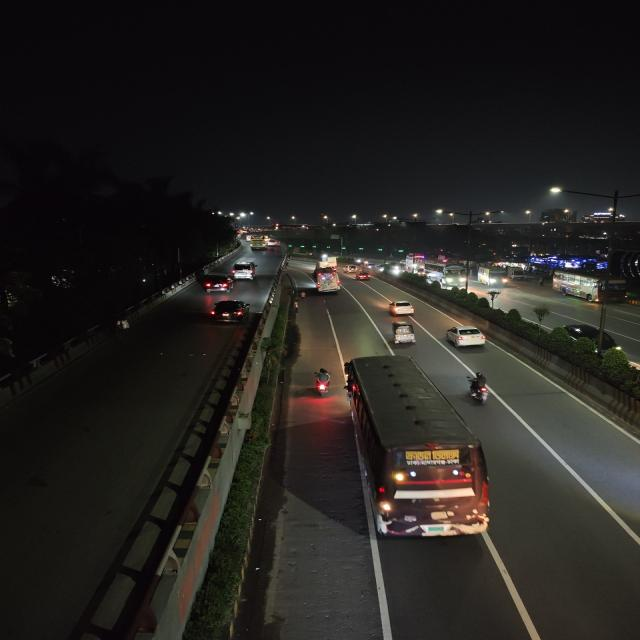bus: (342, 352, 498, 542), (553, 269, 626, 305), (311, 266, 342, 296), (423, 264, 466, 284), (474, 264, 508, 288), (440, 264, 467, 288), (422, 265, 444, 280), (249, 236, 266, 250)
car: (442, 323, 489, 352), (208, 298, 251, 324), (200, 273, 234, 293), (385, 298, 416, 317), (231, 262, 259, 280), (355, 272, 371, 281)
cng: (386, 318, 418, 348)
motorcycle: (461, 369, 498, 408), (309, 366, 334, 401)
